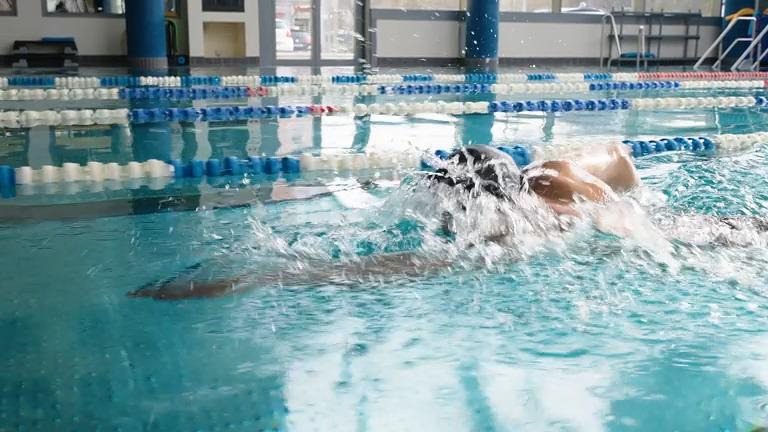Swimming: (123, 134, 765, 305)
